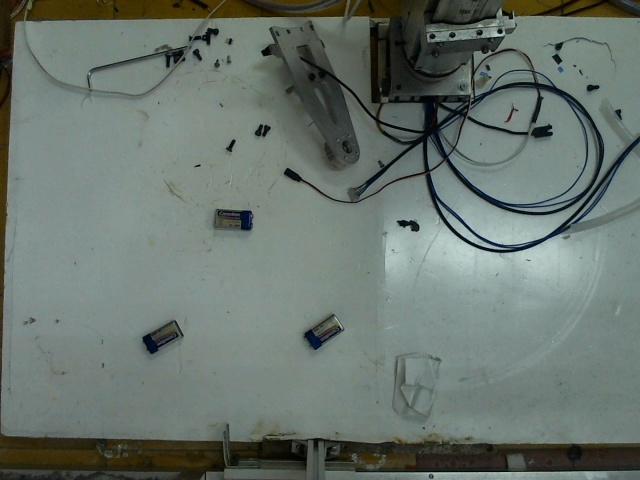battery: (301, 311, 344, 348), (207, 202, 253, 233), (140, 319, 180, 351)
